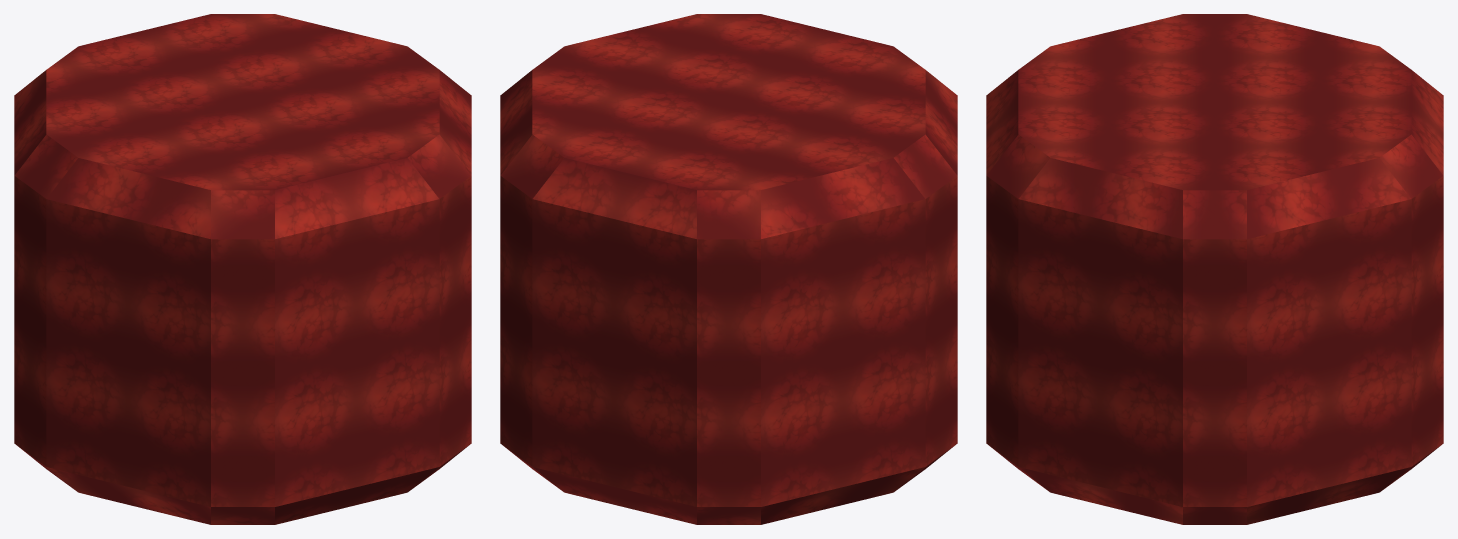
The model's file is Cell Variant D.fbx.
The picture shows the model from 3 angles, left to right: view 1: azimuth 30°, elevation 25°; view 2: azimuth 150°, elevation 25°; view 3: azimuth 270°, elevation 25°; orthographic projection.
Visible parts, largest first — view 1: Cell_Variant_D; view 2: Cell_Variant_D; view 3: Cell_Variant_D.
Boxes of the visible parts, <box> form: Cell_Variant_D: <box>14,14,471,524</box>; Cell_Variant_D: <box>500,14,957,524</box>; Cell_Variant_D: <box>986,14,1443,524</box>.
Size of the model in its own units: 465 by 350 by 433.
1 material, 1 textured.
